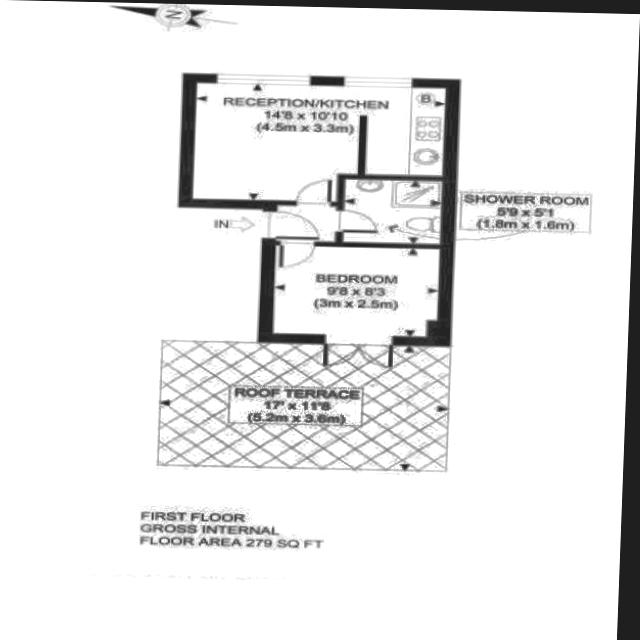room: (157, 340, 449, 471), (193, 83, 445, 205), (274, 246, 439, 338), (343, 179, 442, 244)
